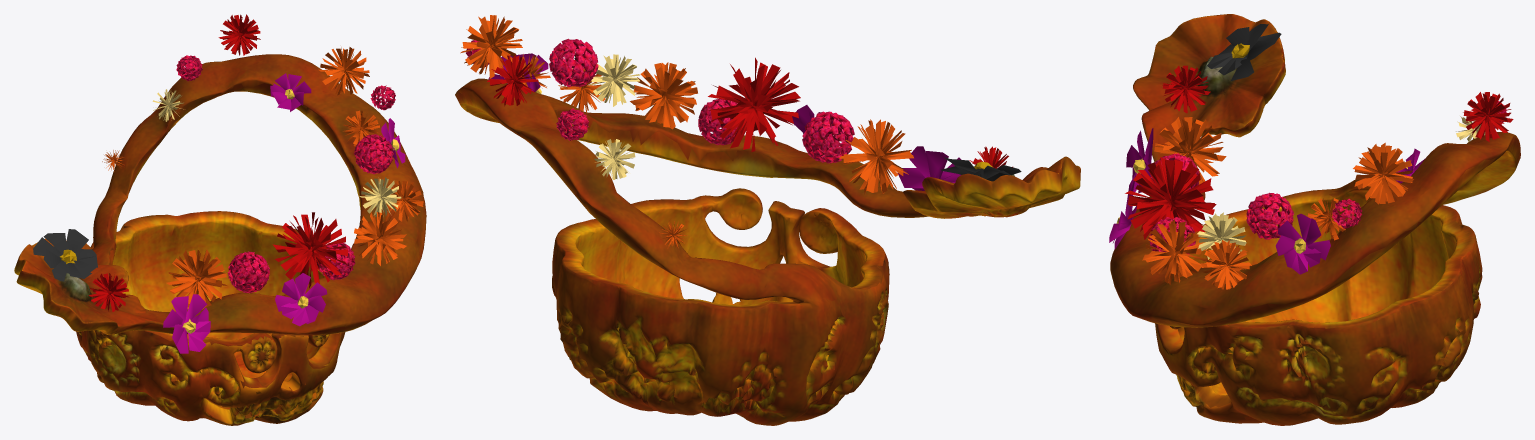
Rendered from laCalabaza.obj.
3 renders of one model, left to right at view 1: azimuth 30°, elevation 25°; view 2: azimuth 150°, elevation 25°; view 3: azimuth 270°, elevation 25°, orthographic. The views are drawn at different scales.
Parts seen in each view (by area): view 1: CalabazaPintura, CalabazaFlores; view 2: CalabazaPintura, CalabazaFlores; view 3: CalabazaPintura, CalabazaFlores.
Boxes of the visible parts, x1,y1,x2,y2 form: CalabazaPintura: (14,54,426,425); CalabazaFlores: (33,14,423,353); CalabazaPintura: (455,78,1080,425); CalabazaFlores: (460,15,1021,248); CalabazaPintura: (1110,14,1520,425); CalabazaFlores: (1109,24,1513,289).
Bounding box in the file's own units: 98.47 × 68.07 × 68.31.
